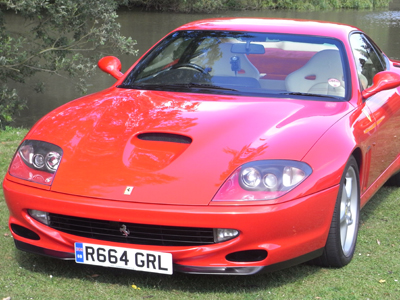licencePlate: (74, 238, 184, 284)
